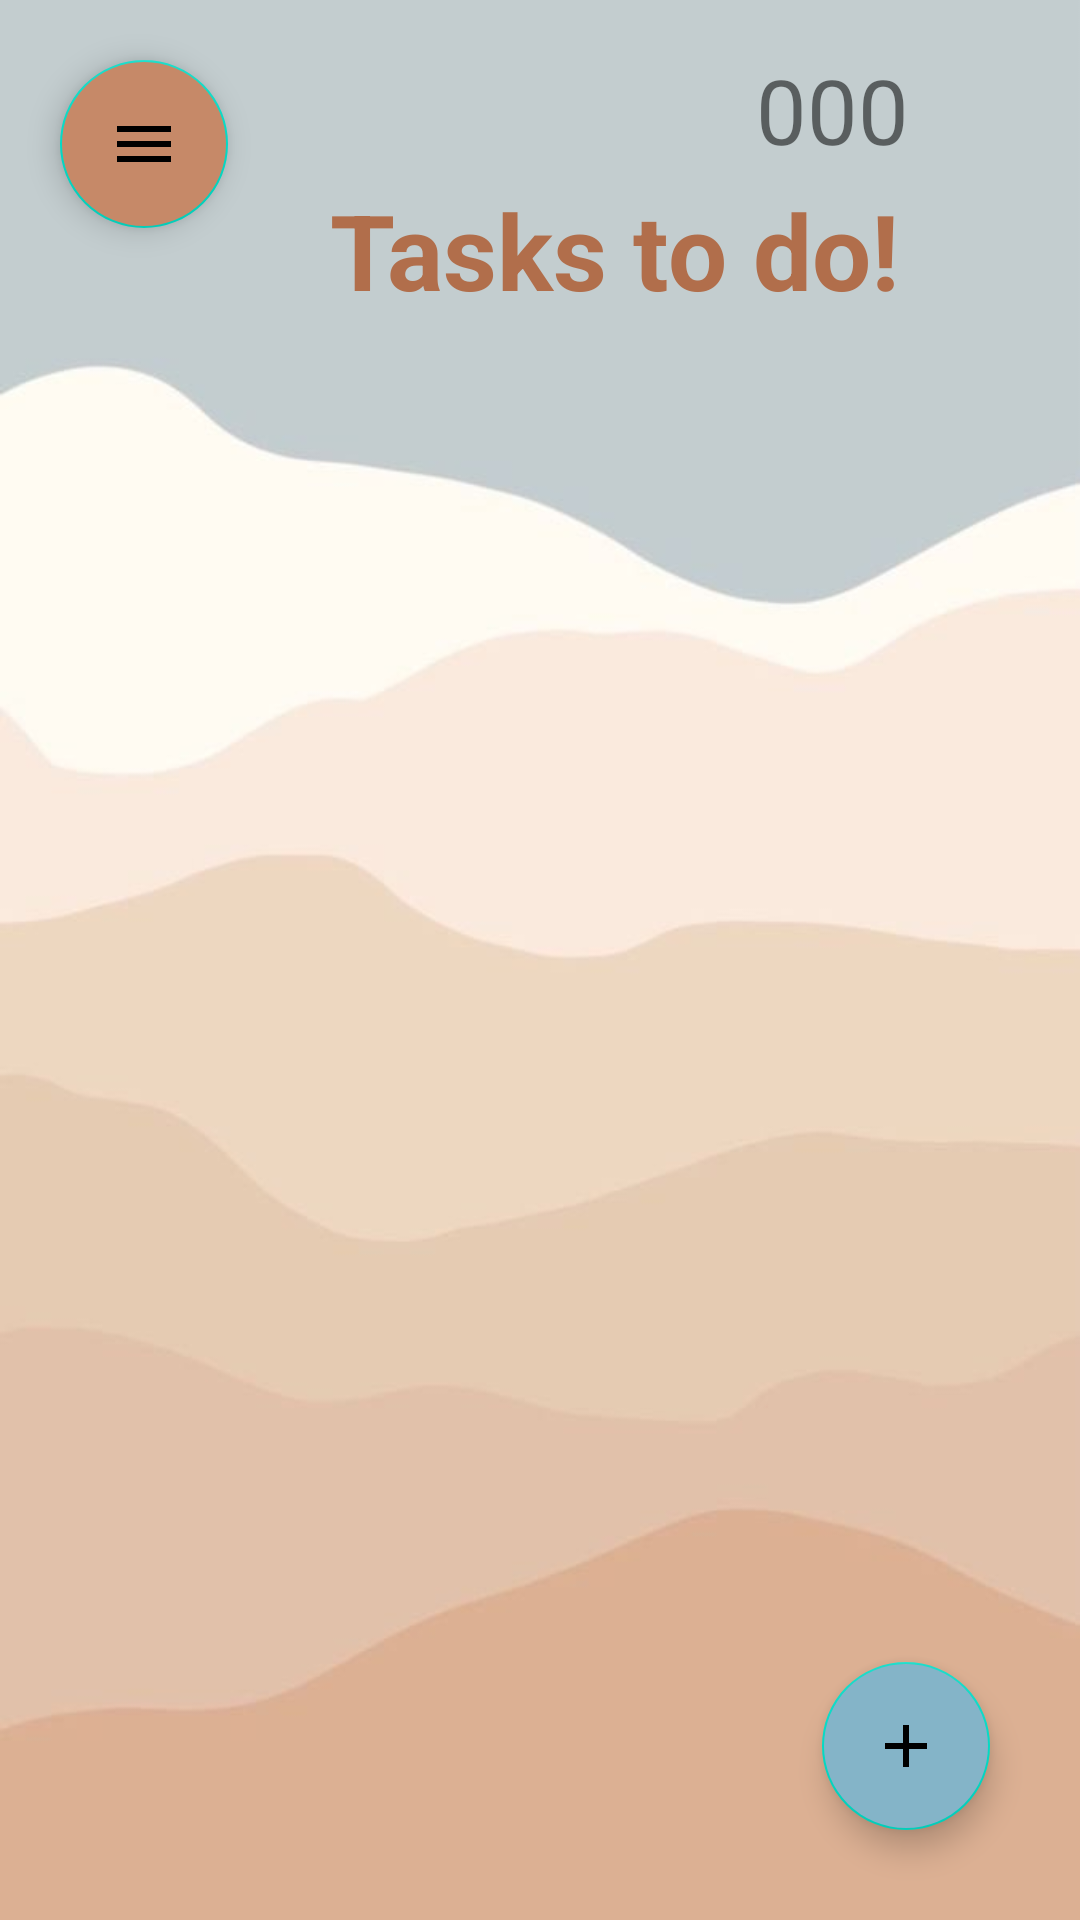

Named icons in this screenshot (1080x1920) and their bounding boxes, bbox(x1, y1, x2, y2):
menu: bbox(60, 60, 228, 228)
